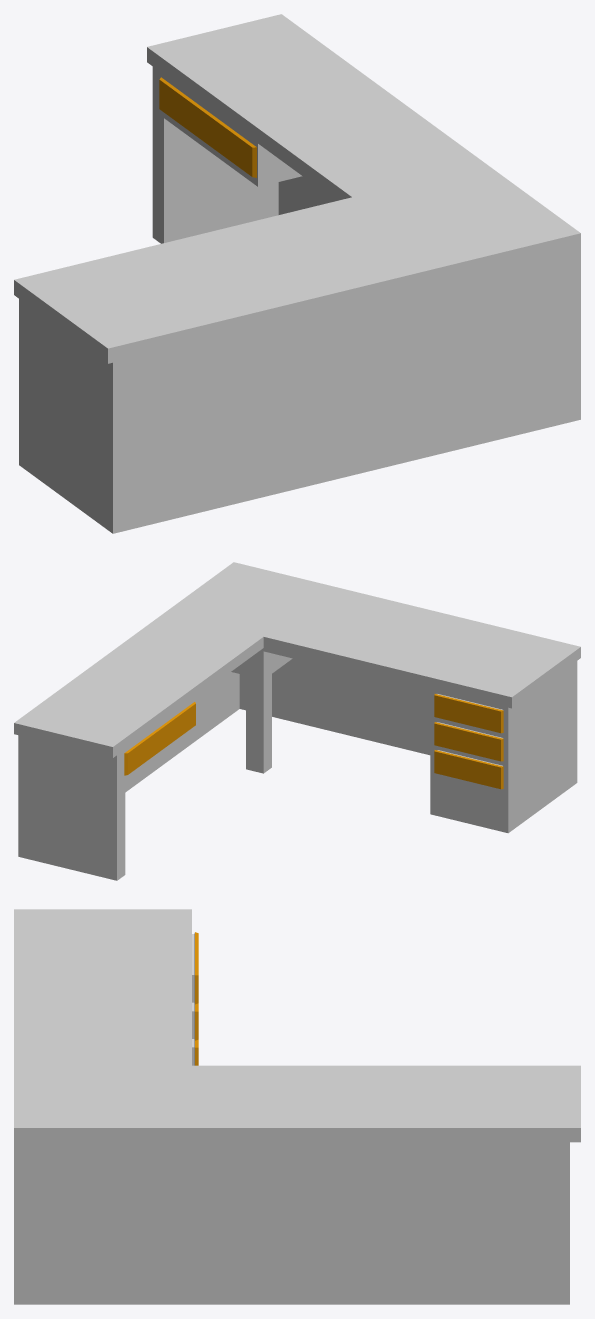
Rendered from DeskA.fbx.
The picture shows the model from 3 angles, top to bottom: view 1: azimuth 30°, elevation 25°; view 2: azimuth 150°, elevation 25°; view 3: azimuth 270°, elevation 25°; orthographic projection. The views are drawn at different scales.
Parts seen in each view (by area): view 1: Desk.A, Long Drawer.A; view 2: Desk.A, Long Drawer.A, Small Drawer2.A, Small Drawer3.A, Small Drawer.A; view 3: Desk.A.
Boxes of the visible parts, bbox=[...] form: Desk.A: bbox=[14, 14, 580, 533]; Long Drawer.A: bbox=[159, 77, 256, 177]; Desk.A: bbox=[14, 562, 580, 880]; Long Drawer.A: bbox=[124, 702, 195, 775]; Small Drawer2.A: bbox=[434, 722, 503, 761]; Small Drawer3.A: bbox=[434, 750, 503, 789]; Small Drawer.A: bbox=[434, 694, 503, 733]; Desk.A: bbox=[14, 909, 580, 1304].
Bounding box in the file's own units: 254 × 95.59 × 278.
